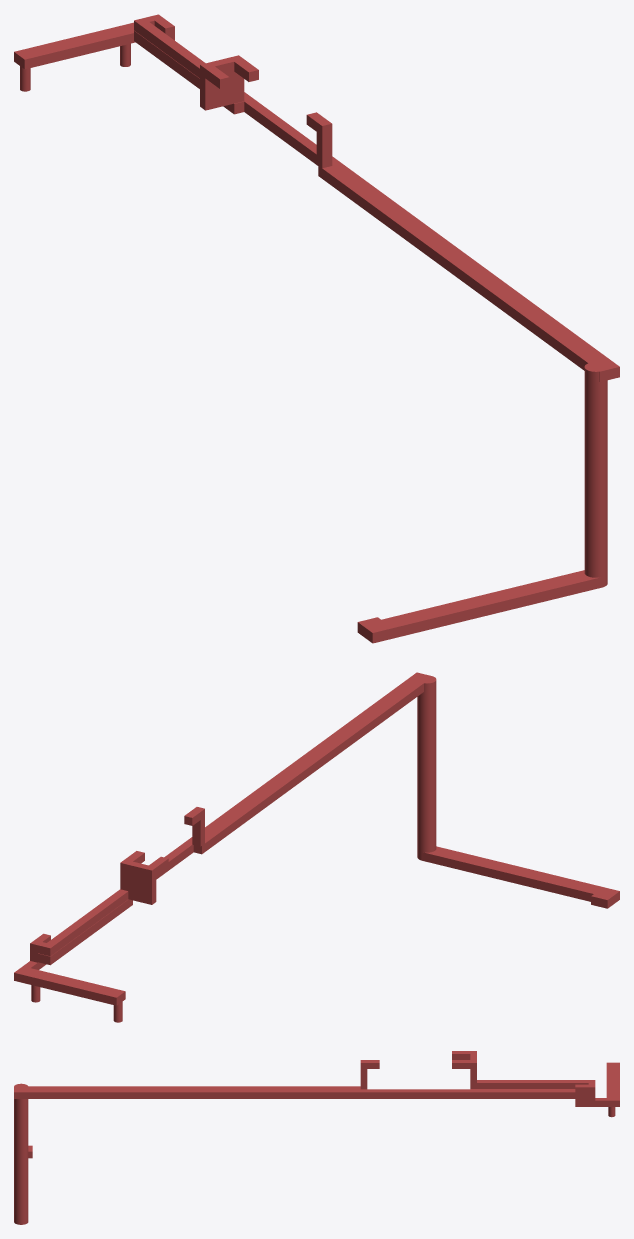
Rendered from Dock_Lead_Power_v3_4e.glb.
3 renders of one model, top to bottom at view 1: azimuth 30°, elevation 25°; view 2: azimuth 150°, elevation 25°; view 3: azimuth 270°, elevation 25°, orthographic. The views are drawn at different scales.
Visible parts, largest first — view 1: Dock_Lead_Power_v3_4e; view 2: Dock_Lead_Power_v3_4e; view 3: Dock_Lead_Power_v3_4e.
Boxes of the visible parts, x1,y1,x2,y2 form: Dock_Lead_Power_v3_4e: (14,14,619,643); Dock_Lead_Power_v3_4e: (14,672,619,1022); Dock_Lead_Power_v3_4e: (14,1051,619,1224).
Size of the model in its own units: 37.7 by 37 by 126.
